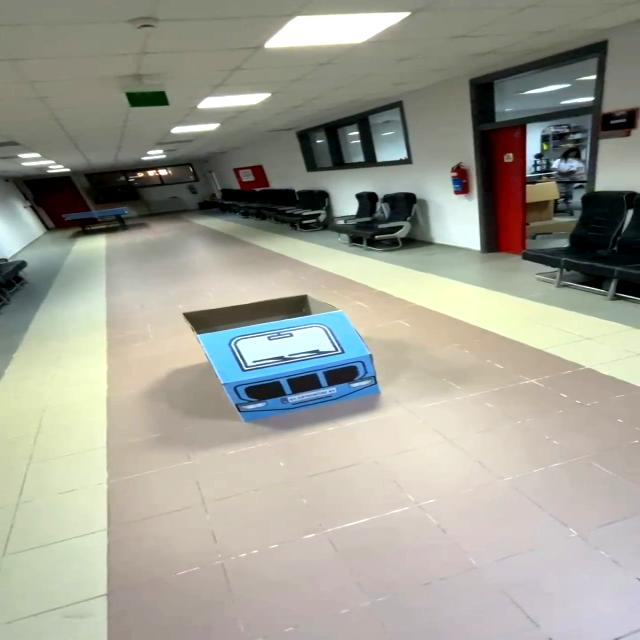blue_car: (156, 279, 417, 439)
